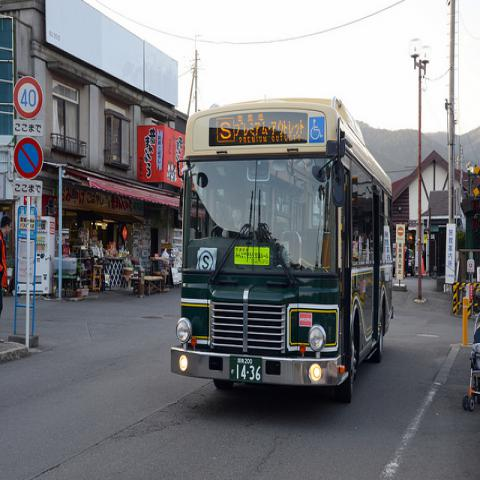bus: (173, 98, 393, 404)
car: (408, 249, 416, 277)
